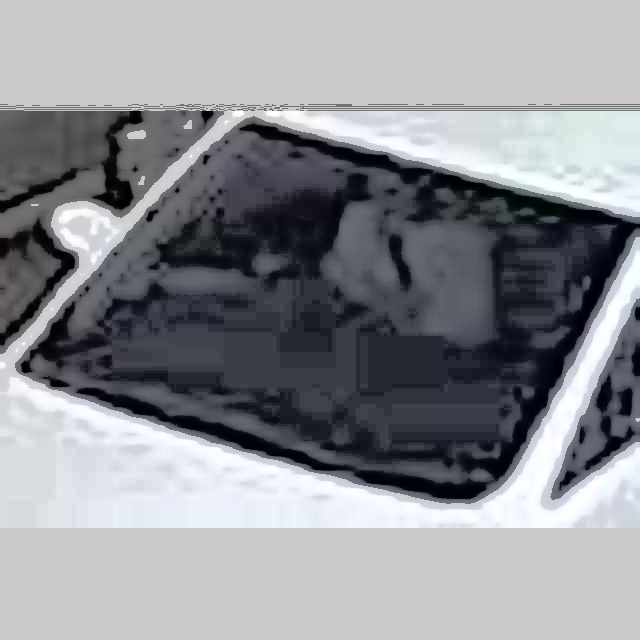pakai: (327, 174, 487, 354)
